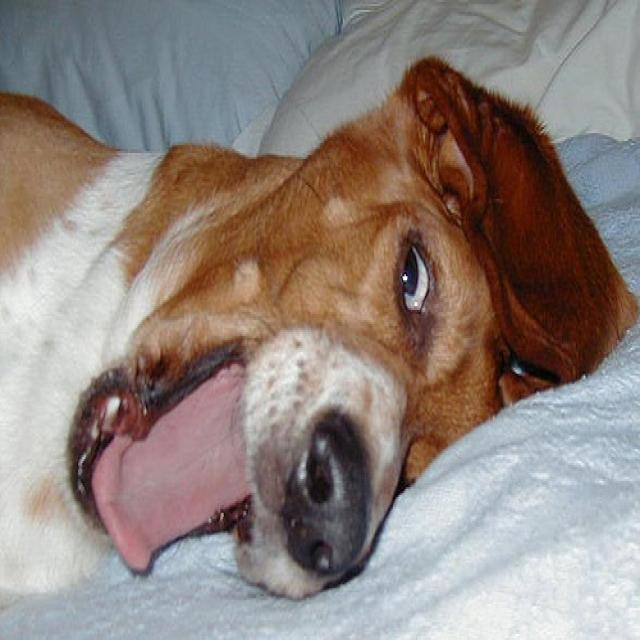dog-basset_hound: (1, 50, 637, 606)
